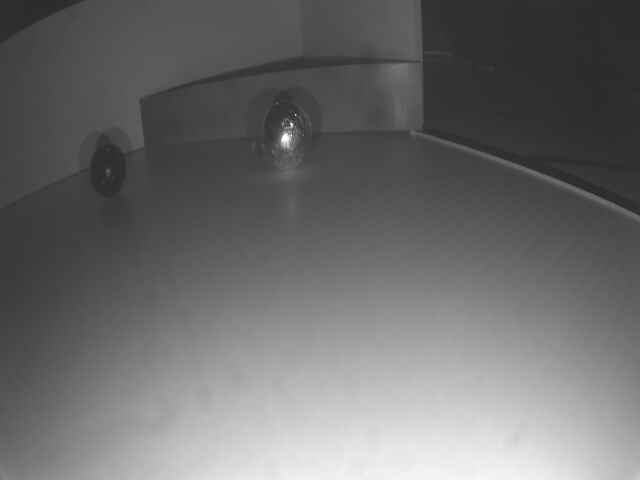Dead: (89, 147, 128, 197)
Green: (140, 63, 423, 153)
Live: (255, 103, 316, 171)
